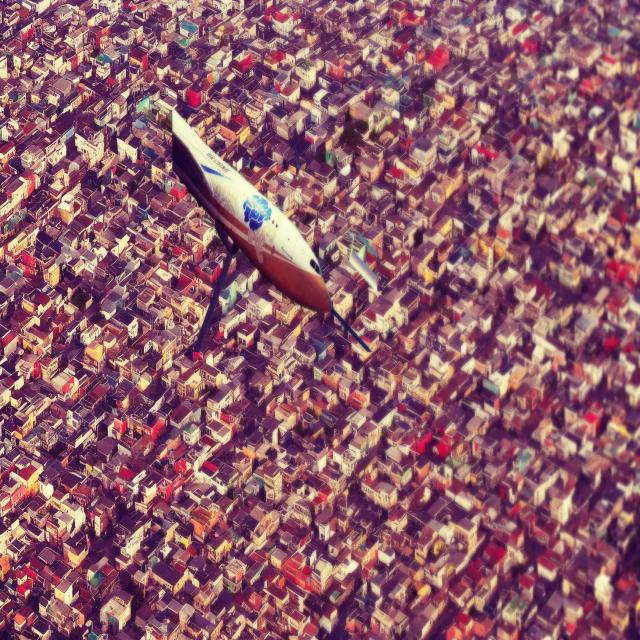airplane: (170, 106, 333, 316)
